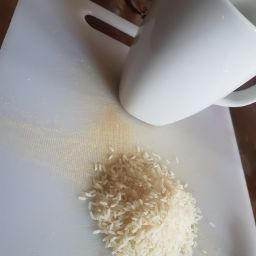Basmati rice: (50, 112, 256, 256)
